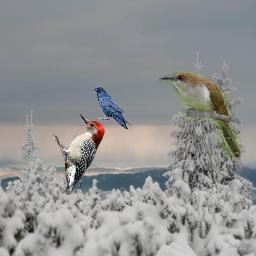Crow: (91, 86, 131, 129)
Cuckoo: (159, 72, 241, 159)
Woodpecker: (49, 112, 107, 197)
